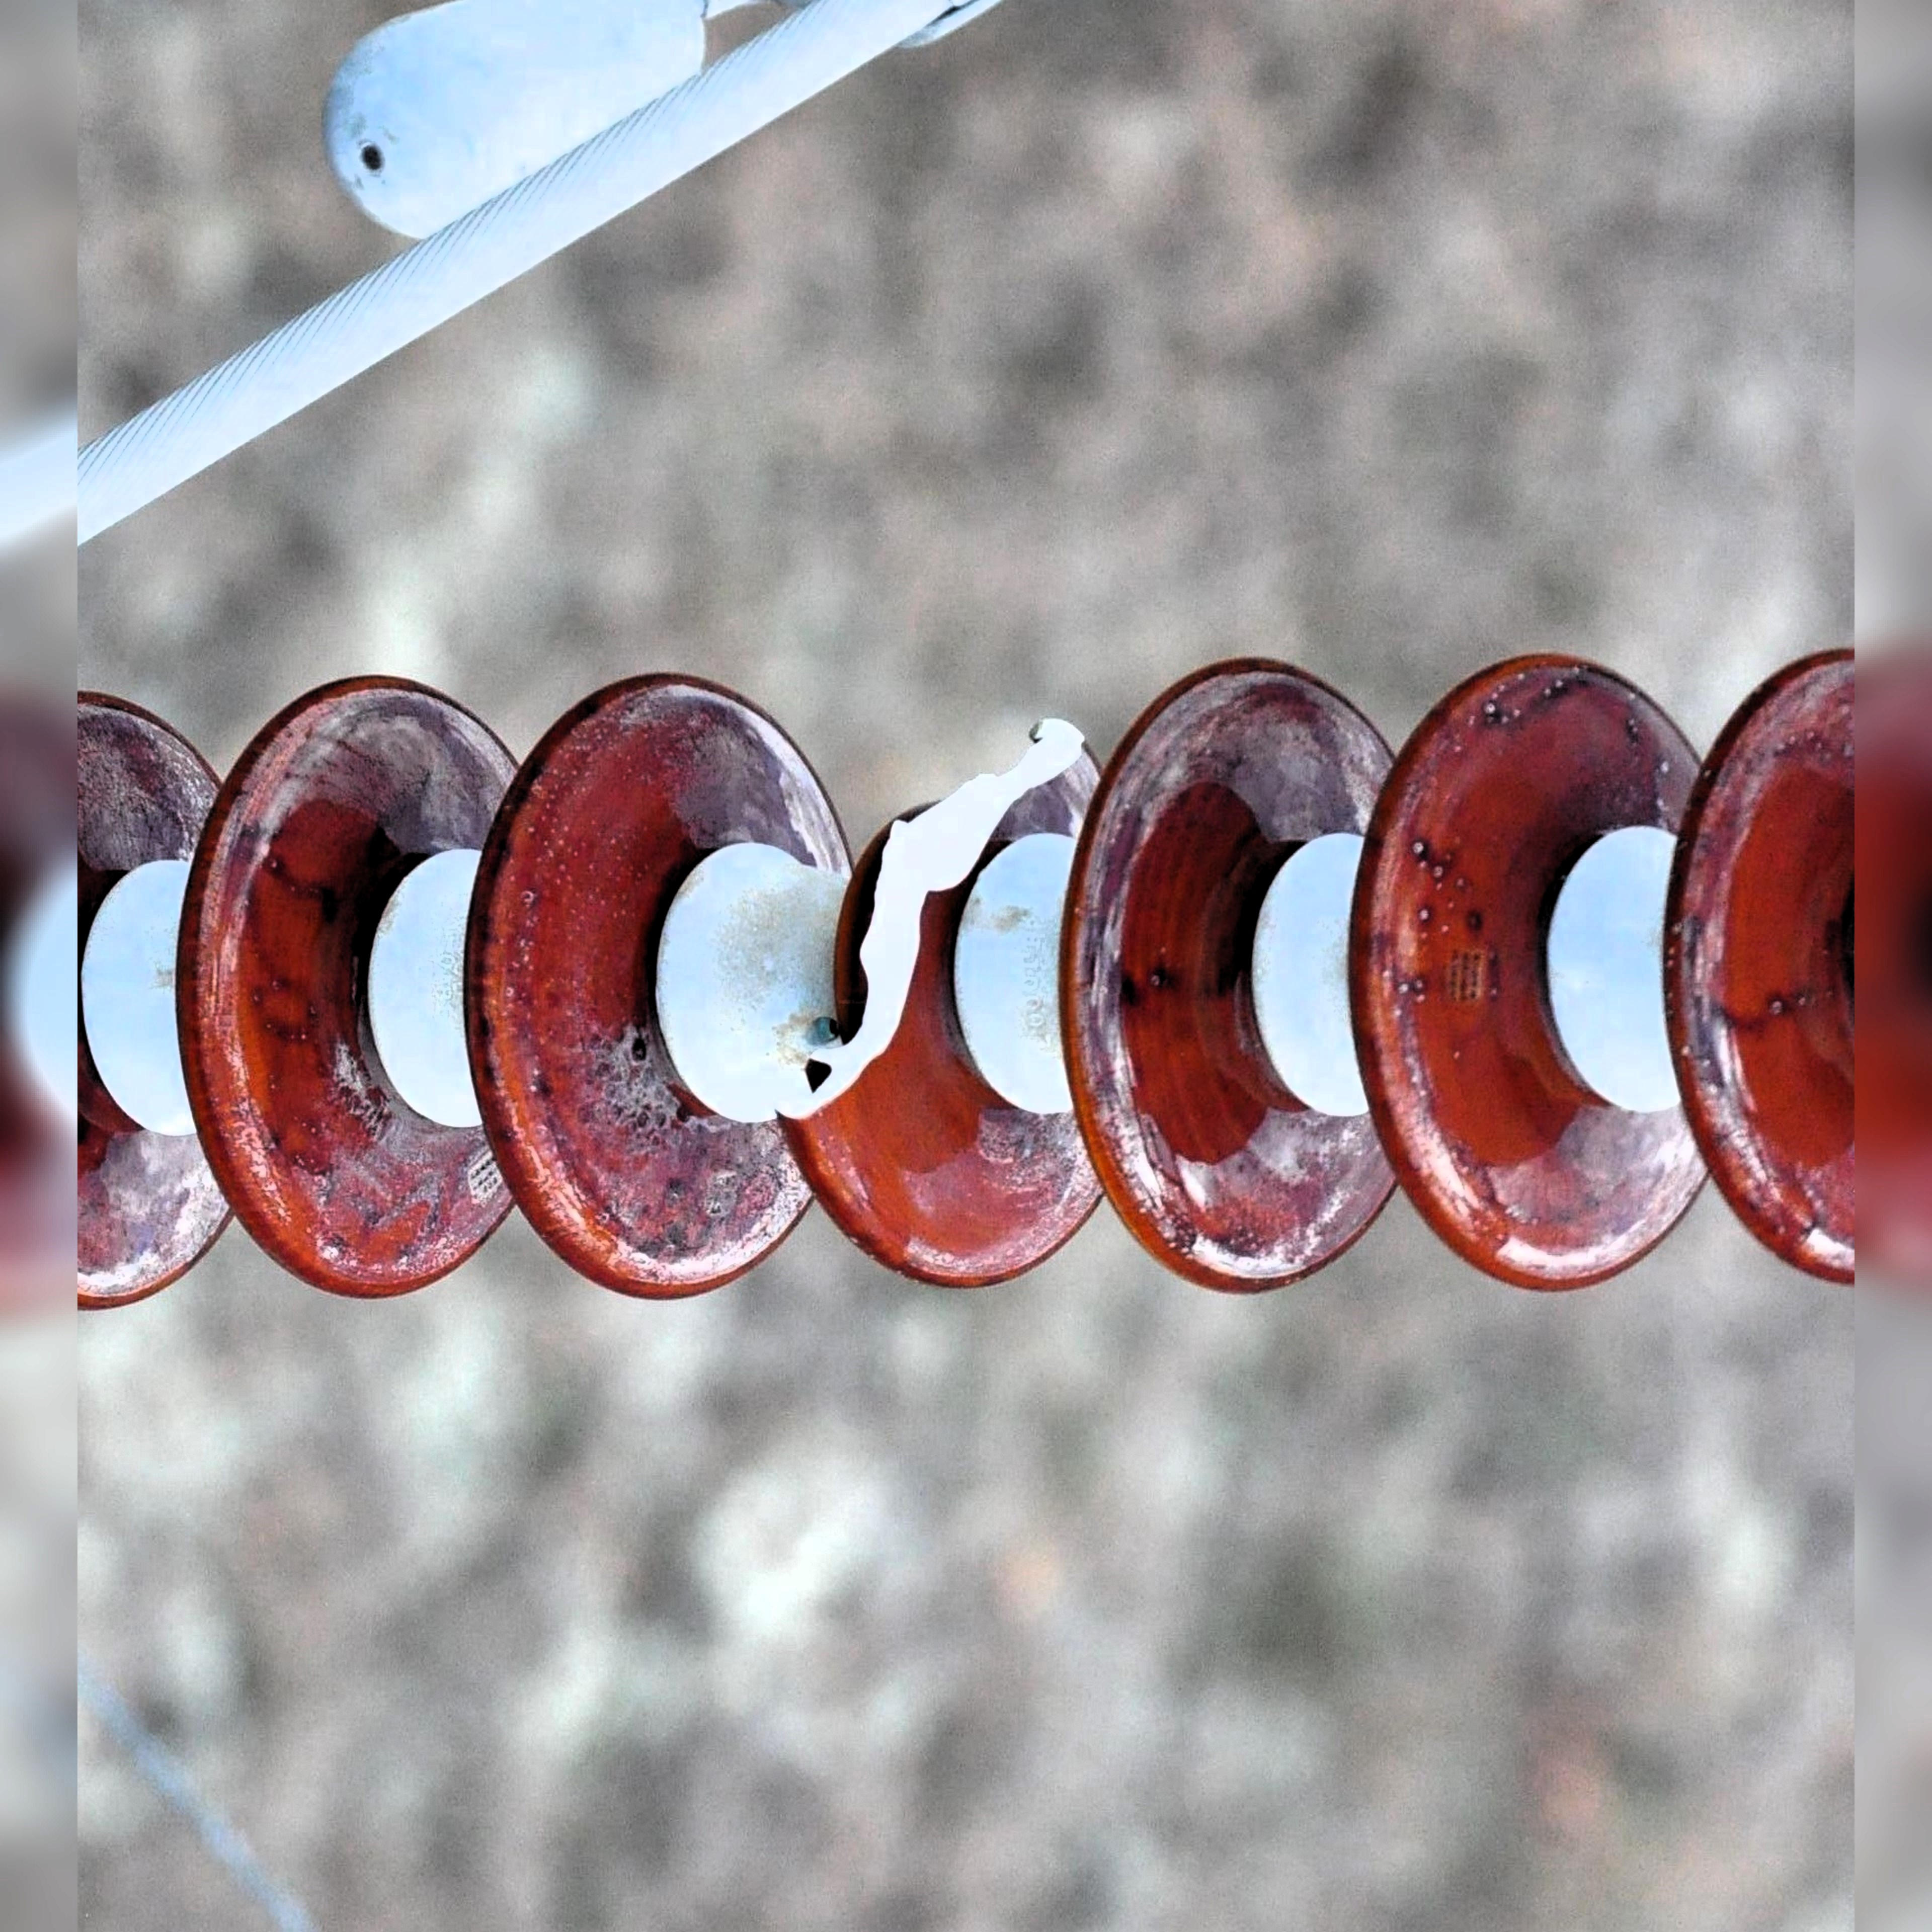insulator breakage: (771, 694, 1134, 1309)
